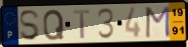3: (97, 7, 116, 40)
4: (124, 6, 144, 40)
M: (144, 5, 172, 40)
Q: (42, 8, 66, 42)
S: (18, 9, 41, 42)
T: (73, 8, 91, 40)
